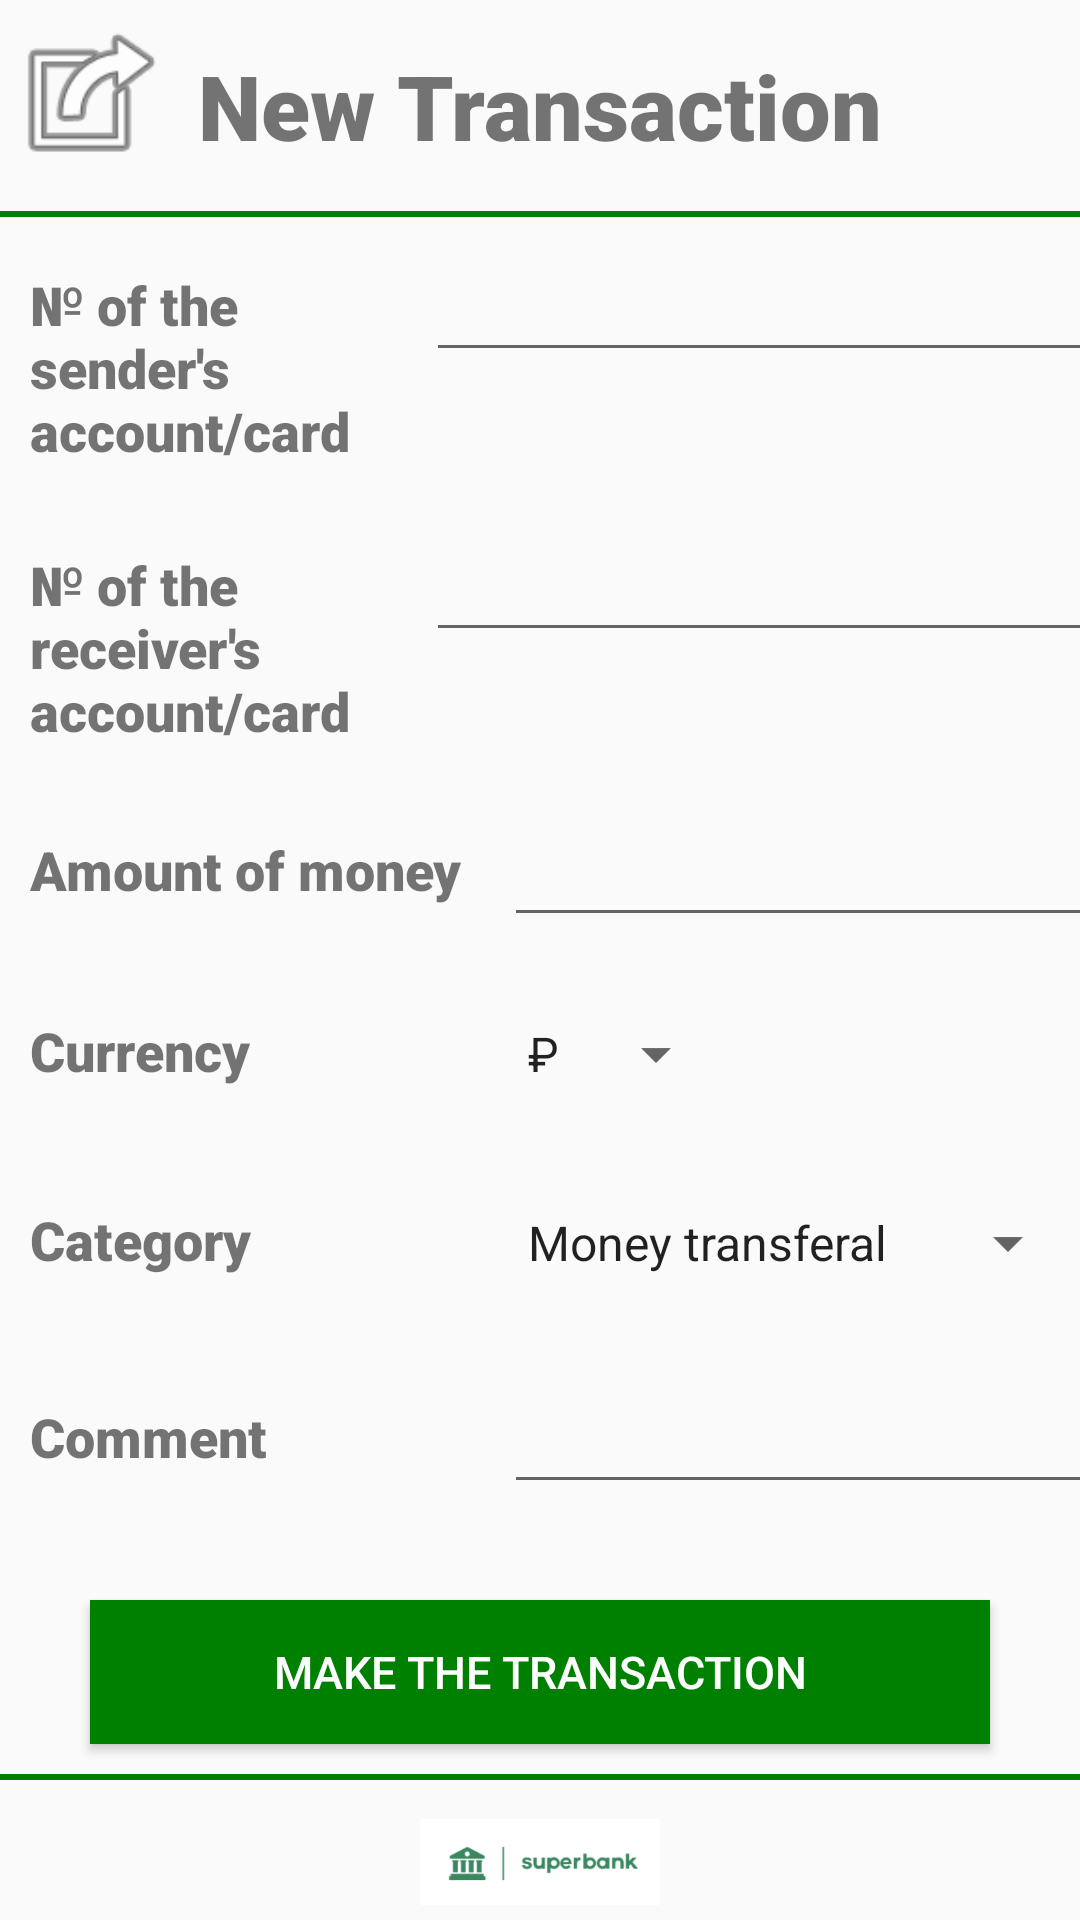

Icon bounding boxes for this 1080x1920 phone screenshot, format (x1=x1, y1=y1, x2=x2, y2=y2):
set as: (x1=28, y1=34, x2=155, y2=152)
